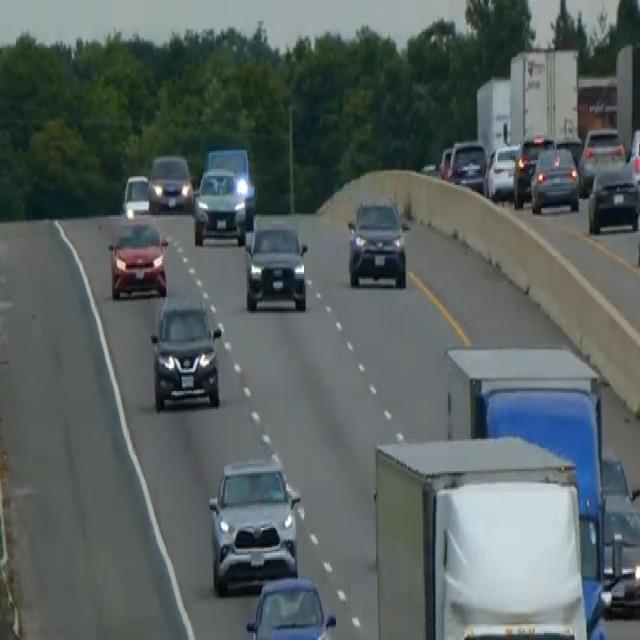car: (207, 453, 301, 594), (149, 295, 222, 413), (599, 452, 639, 614), (346, 194, 408, 288), (245, 574, 336, 638), (244, 222, 308, 311), (107, 218, 169, 300), (192, 166, 254, 246), (587, 158, 639, 235), (529, 144, 580, 213), (578, 124, 625, 194), (512, 132, 555, 206), (204, 144, 253, 201), (148, 151, 193, 212), (444, 137, 487, 192), (484, 140, 520, 201), (121, 171, 153, 217), (627, 124, 639, 180), (437, 144, 453, 180)
lorry: (443, 341, 611, 635), (508, 46, 579, 146)
